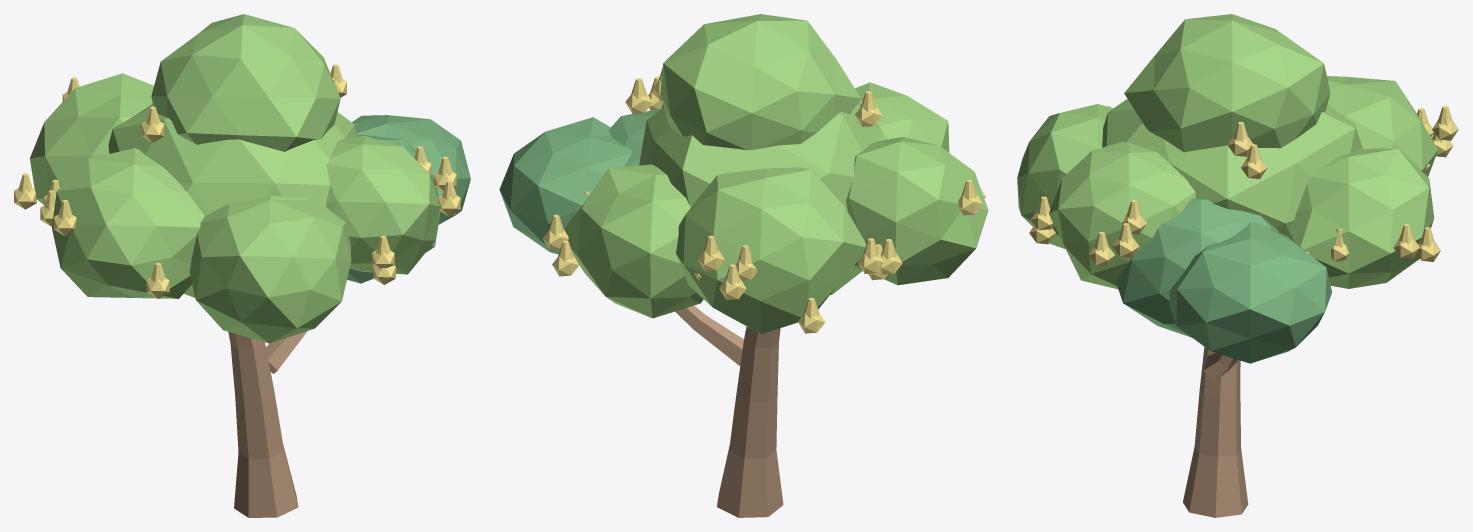
Rendered from pereira_2.fbx.
The picture shows the model from 3 angles, left to right: view 1: azimuth 30°, elevation 25°; view 2: azimuth 150°, elevation 25°; view 3: azimuth 270°, elevation 25°; orthographic projection. The views are drawn at different scales.
Visible parts, largest first — view 1: pereira_2~Copa 7@leaf, pereira_2~Copa 5@leaf, pereira_2~Copa 4@leaf, pereira_2~Copa 0@leaf, pereira_2~Copa 6@leaf, pereira_2~Tronco@bark, pereira_2~Copa 3@leaf, pereira_2~Copa 8@leafdark, pereira_2~Galho baixo@bark, pereira_2~Copa 1@leafdark, pereira_2~Fruta 3@pear, pereira_2~Fruta 25@pear (+4 smaller); view 2: pereira_2~Copa 3@leaf, pereira_2~Copa 7@leaf, pereira_2~Copa 4@leaf, pereira_2~Copa 2@leaf, pereira_2~Copa 0@leaf, pereira_2~Copa 8@leafdark, pereira_2~Tronco@bark, pereira_2~Copa 5@leaf, pereira_2~Galho baixo@bark, pereira_2~Copa 1@leafdark, pereira_2~Fruta 6@pear, pereira_2~Fruta 12@pear (+7 smaller); view 3: pereira_2~Copa 7@leaf, pereira_2~Copa 8@leafdark, pereira_2~Copa 2@leaf, pereira_2~Copa 0@leaf, pereira_2~Copa 6@leaf, pereira_2~Copa 1@leafdark, pereira_2~Tronco@bark, pereira_2~Copa 3@leaf, pereira_2~Copa 5@leaf, pereira_2~Galho baixo@bark, pereira_2~Fruta 12@pear, pereira_2~Fruta 19@pear (+5 smaller).
Part boxes in pixels (x1,y1,x2,y2): pereira_2~Copa 7@leaf: [151, 14, 340, 151]; pereira_2~Copa 5@leaf: [189, 195, 351, 343]; pereira_2~Copa 4@leaf: [52, 148, 204, 298]; pereira_2~Copa 0@leaf: [108, 104, 356, 297]; pereira_2~Copa 6@leaf: [326, 136, 439, 274]; pereira_2~Tronco@bark: [228, 332, 298, 517]; pereira_2~Copa 3@leaf: [30, 73, 153, 204]; pereira_2~Copa 8@leafdark: [352, 115, 470, 224]; pereira_2~Galho baixo@bark: [266, 331, 307, 373]; pereira_2~Copa 1@leafdark: [347, 135, 440, 283]; pereira_2~Fruta 3@pear: [146, 262, 169, 298]; pereira_2~Fruta 25@pear: [141, 106, 164, 142]; pereira_2~Copa 3@leaf: [676, 167, 866, 333]; pereira_2~Copa 7@leaf: [660, 14, 860, 150]; pereira_2~Copa 4@leaf: [846, 137, 988, 285]; pereira_2~Copa 2@leaf: [564, 164, 703, 318]; pereira_2~Copa 0@leaf: [639, 101, 887, 294]; pereira_2~Copa 8@leafdark: [499, 117, 631, 254]; pereira_2~Tronco@bark: [717, 326, 783, 517]; pereira_2~Copa 5@leaf: [855, 82, 949, 152]; pereira_2~Galho baixo@bark: [675, 305, 743, 365]; pereira_2~Copa 1@leafdark: [608, 108, 660, 166]; pereira_2~Fruta 6@pear: [719, 264, 746, 300]; pereira_2~Fruta 12@pear: [625, 78, 652, 113]; pereira_2~Copa 7@leaf: [1124, 14, 1330, 152]; pereira_2~Copa 8@leafdark: [1169, 221, 1332, 363]; pereira_2~Copa 2@leaf: [1288, 148, 1434, 288]; pereira_2~Copa 0@leaf: [1102, 99, 1362, 236]; pereira_2~Copa 6@leaf: [1049, 141, 1195, 289]; pereira_2~Copa 1@leafdark: [1116, 198, 1278, 337]; pereira_2~Tronco@bark: [1183, 347, 1248, 517]; pereira_2~Copa 3@leaf: [1327, 76, 1437, 176]; pereira_2~Copa 5@leaf: [1017, 104, 1112, 248]; pereira_2~Galho baixo@bark: [1203, 353, 1237, 379]; pereira_2~Fruta 12@pear: [1241, 144, 1267, 179]; pereira_2~Fruta 19@pear: [1088, 231, 1114, 266].
Bounding box in the file's own units: 4.24 × 4.53 × 3.78.
